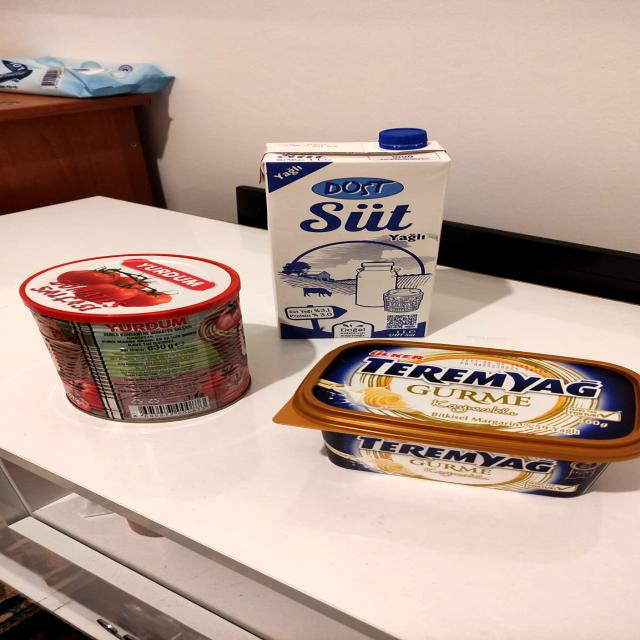margarine: (277, 329, 640, 496)
milk: (245, 134, 464, 338)
tomato paste: (15, 236, 261, 424)
